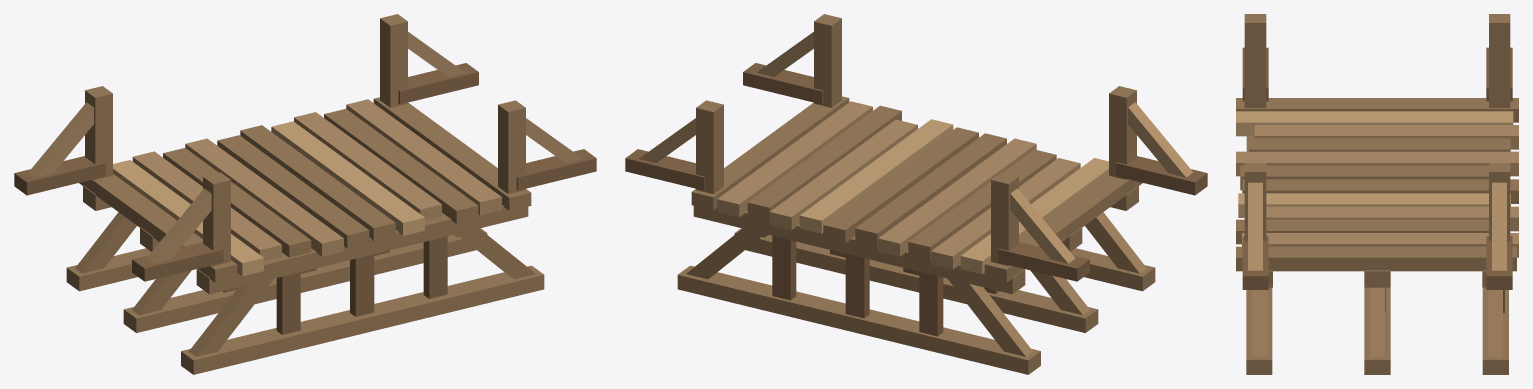
Rendered from SM_Bridge_Wooden_01_C.fbx.
The picture shows the model from 3 angles, left to right: view 1: azimuth 30°, elevation 25°; view 2: azimuth 150°, elevation 25°; view 3: azimuth 270°, elevation 25°; orthographic projection. The views are drawn at different scales.
Parts seen in each view (by area): view 1: pCube140; view 2: pCube140; view 3: pCube140.
Part boxes in pixels (x1=…): pCube140: x1=14, y1=14, x2=596, y2=374; pCube140: x1=625, y1=14, x2=1207, y2=374; pCube140: x1=1236, y1=14, x2=1518, y2=374.
Size of the model in its own units: 288 by 114 by 151.
Materials: 1 (1 with a texture image).
